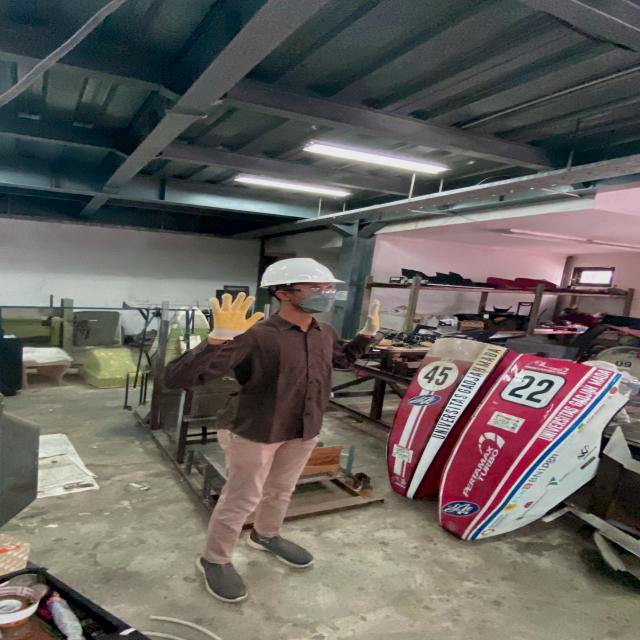face_mask: (286, 281, 344, 315)
glasses: (290, 285, 342, 296)
hand_glove: (203, 289, 268, 338), (356, 297, 390, 337)
head_helmet: (256, 257, 351, 288)
person: (153, 251, 391, 611)
shoes: (239, 526, 321, 570), (193, 550, 255, 602)
